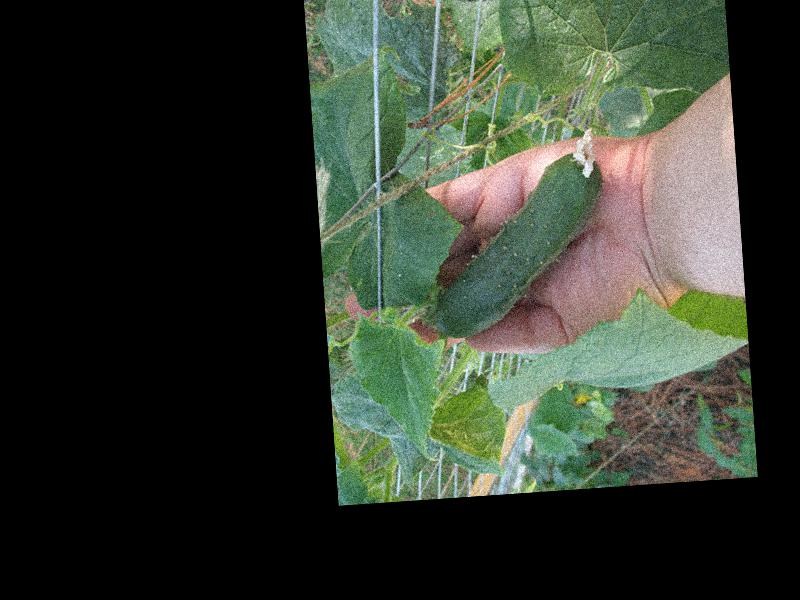Cucumber: (422, 126, 611, 338)
